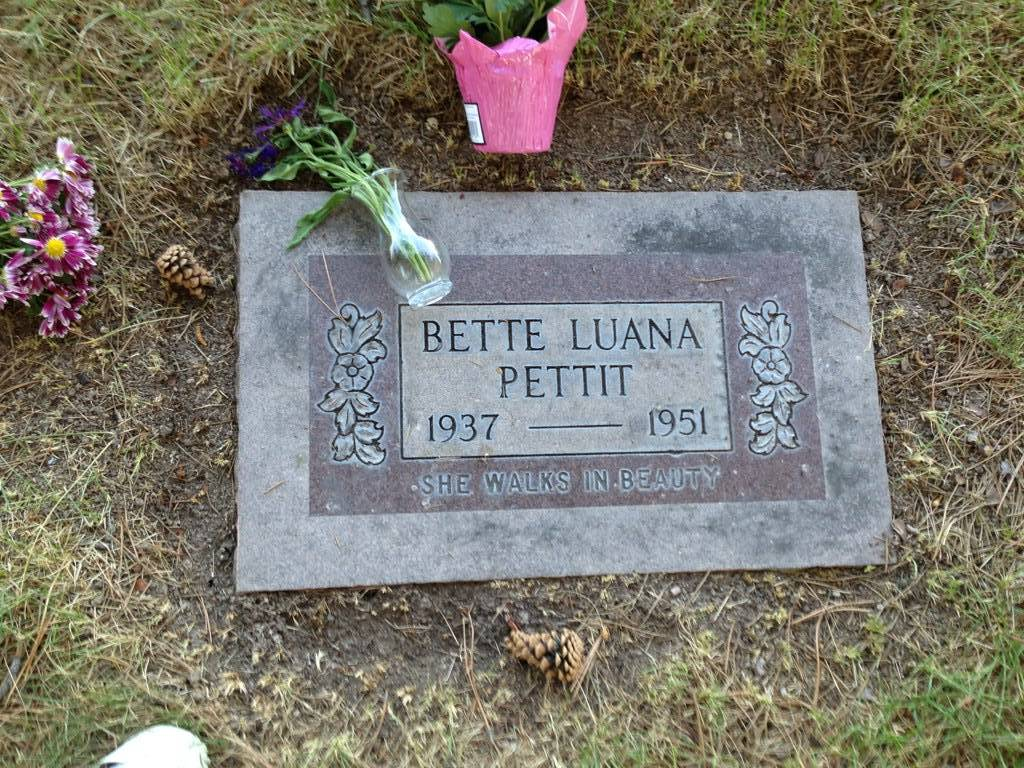flat: (219, 161, 918, 598)
